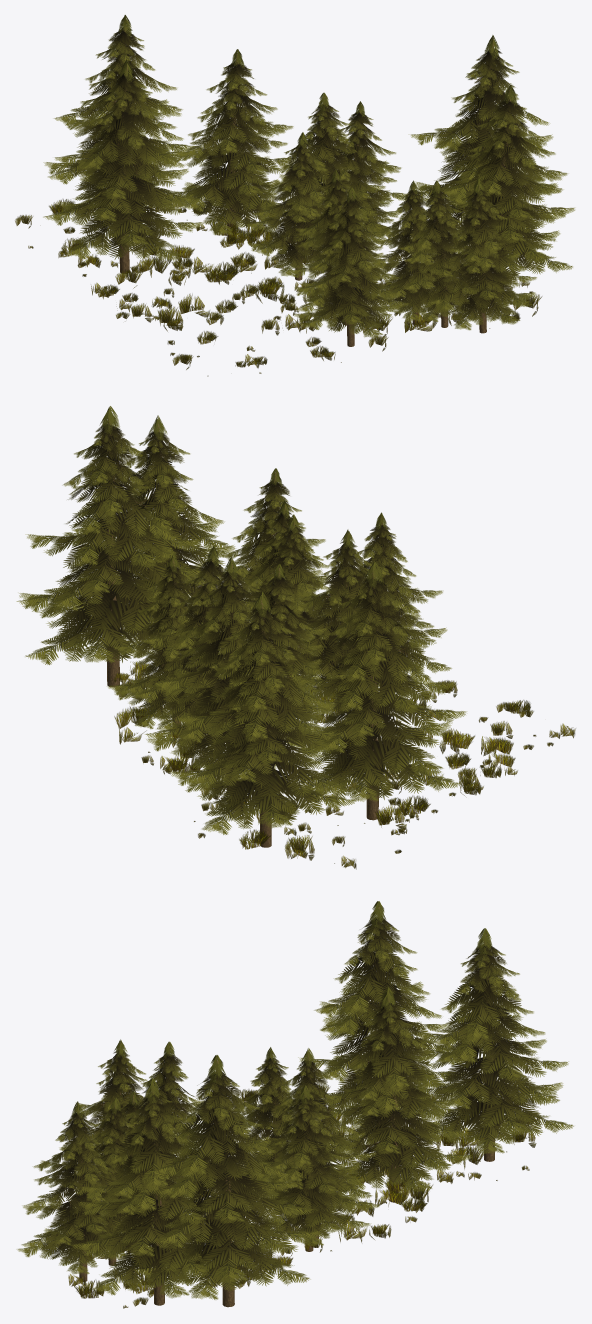
The picture shows the model from 3 angles, top to bottom: view 1: azimuth 30°, elevation 25°; view 2: azimuth 150°, elevation 25°; view 3: azimuth 270°, elevation 25°; orthographic projection. The views are drawn at different scales.
Parts seen in each view (by area): view 1: Low Poly Stylized 2D Grass.1988; view 2: Low Poly Stylized 2D Grass.1988; view 3: Low Poly Stylized 2D Grass.1988.
Boxes of the visible parts, x1,y1,x2,y2 form: Low Poly Stylized 2D Grass.1988: [15, 15, 574, 376]; Low Poly Stylized 2D Grass.1988: [16, 406, 575, 869]; Low Poly Stylized 2D Grass.1988: [17, 901, 573, 1308].
Bounding box in the file's own units: 29.53 × 15.22 × 29.43.
Materials: 3 (3 with a texture image).
